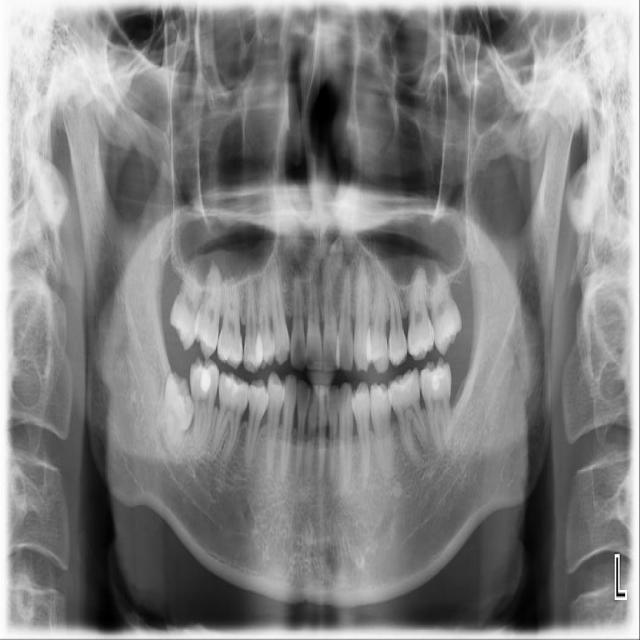52: (418, 356, 454, 404), (188, 356, 219, 406)
73: (613, 556, 620, 560)
BioHorizons Implant: (424, 257, 465, 357)
Blue Sky Bio Implant: (415, 356, 467, 459)
Caries: (163, 240, 216, 353)
Implant: (189, 357, 219, 459)
Keystone Dental Implant: (148, 371, 204, 456)
